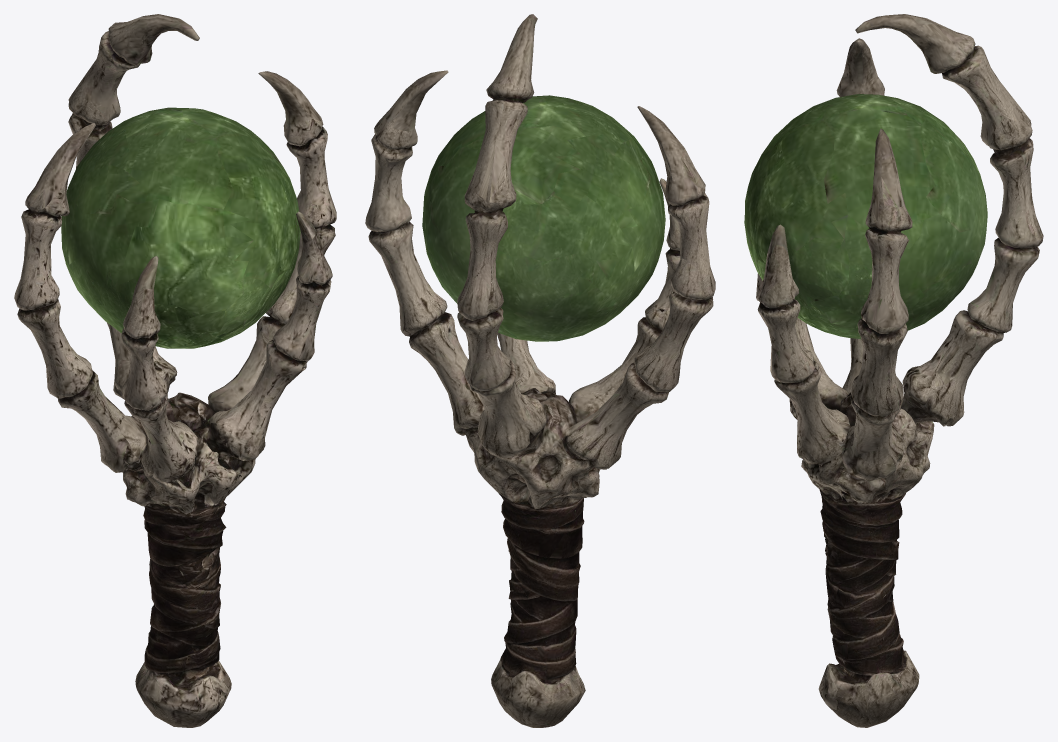
Rendered from orb_3.glb.
3 views of the same model, side by side, from view 1: azimuth 30°, elevation 25°; view 2: azimuth 150°, elevation 25°; view 3: azimuth 270°, elevation 25° (orthographic).
Parts seen in each view (by area): view 1: orb_3; view 2: orb_3; view 3: orb_3.
Part boxes in pixels (x1,y1,x2,y2): orb_3: (14, 14, 336, 727); orb_3: (365, 14, 715, 727); orb_3: (744, 14, 1043, 727).
Size of the model in its own units: 0.1372 by 0.28 by 0.107.
1 material, 1 textured.
